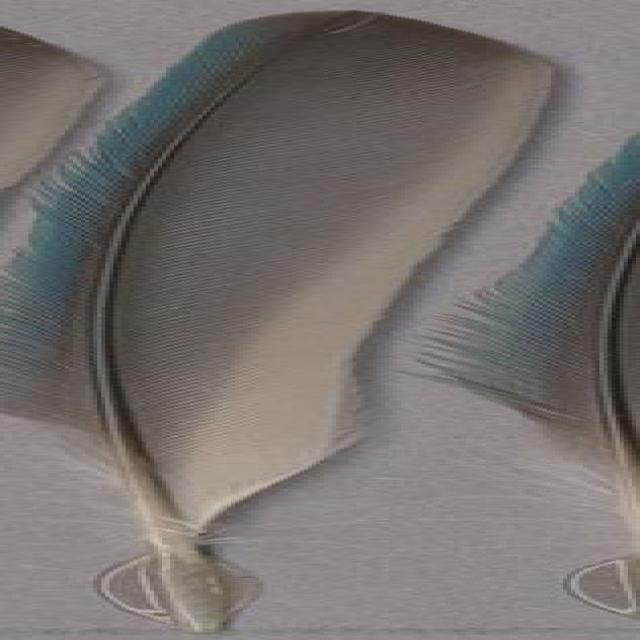feather: (0, 6, 571, 635), (391, 132, 640, 612)
